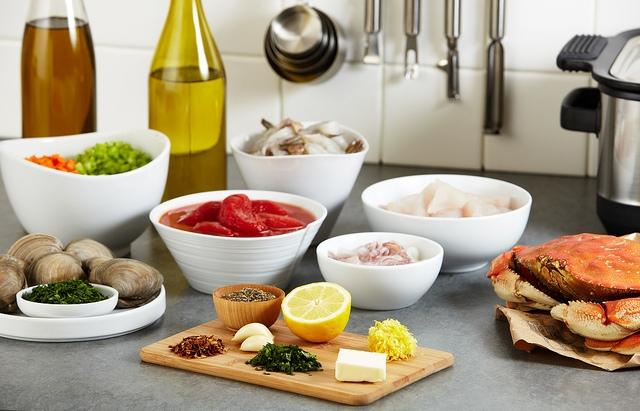carrot: (25, 153, 80, 174)
garlic: (230, 322, 274, 344), (239, 336, 274, 352)
hot pepper: (168, 335, 230, 359), (194, 344, 200, 350), (174, 346, 179, 353)
lemon: (282, 282, 352, 342)
